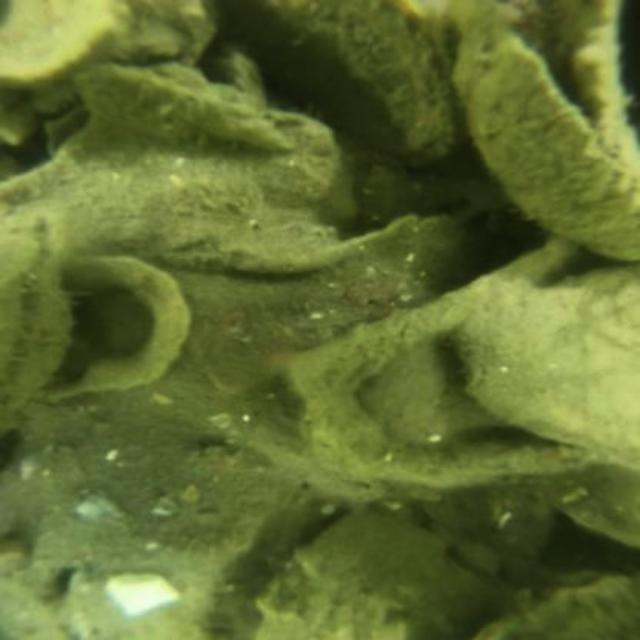Oyster-Closed: (287, 228, 622, 485), (11, 116, 347, 270), (459, 16, 638, 255), (221, 0, 449, 164), (461, 270, 637, 468), (21, 253, 201, 409), (259, 507, 474, 633), (78, 64, 289, 148), (56, 550, 222, 638), (0, 216, 65, 428), (476, 572, 638, 638), (540, 464, 638, 552)
